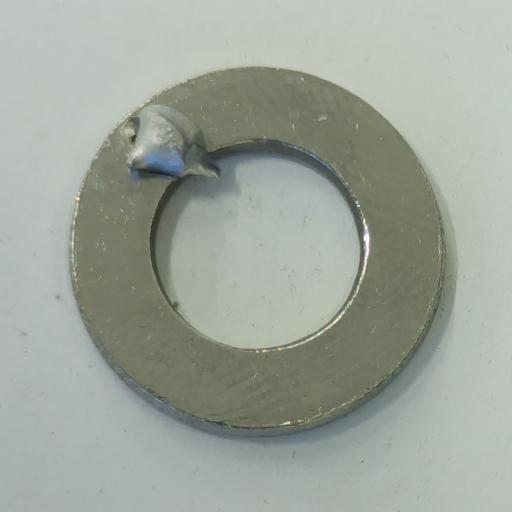excess_material: (126, 104, 222, 180)
